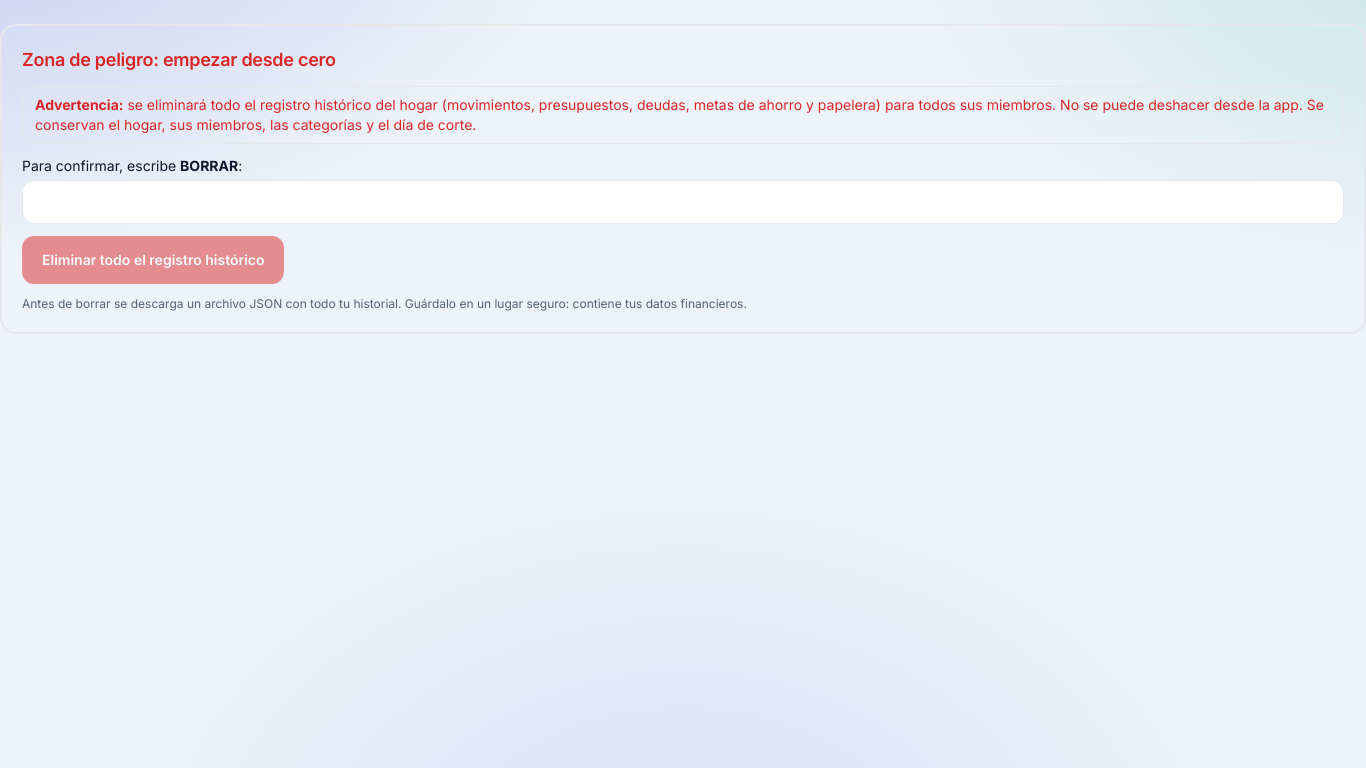
DangerZone › respalda primero y luego borra
Expected: the button "Eliminar todo el registro histórico" is disabled, [22,236,284,284]
Type "borrar" into the field labelled "Para confirmar, escribe BORRAR:" at (683, 202), box [22,180,1344,224]
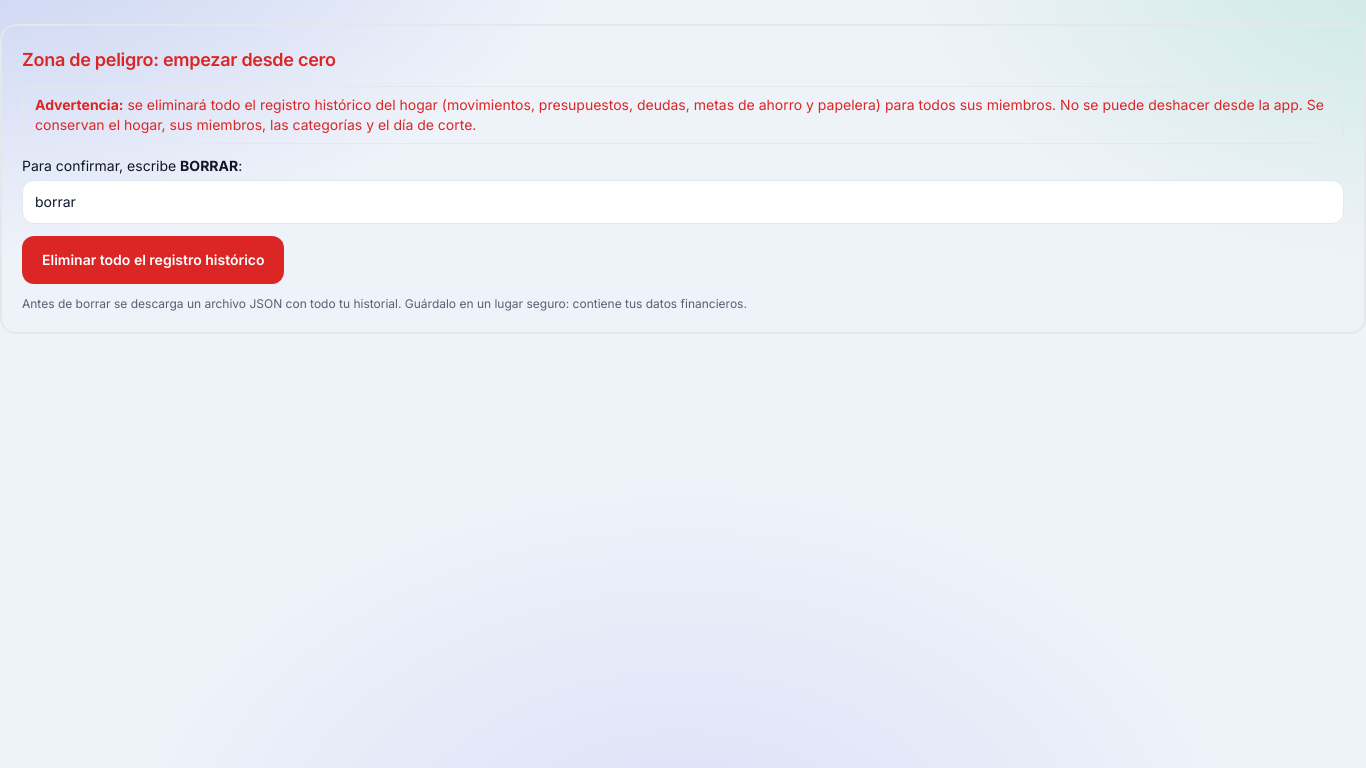
Result: the button "Eliminar todo el registro histórico" is enabled
Click the button "Eliminar todo el registro histórico" at (153, 260), box [22,236,284,284]
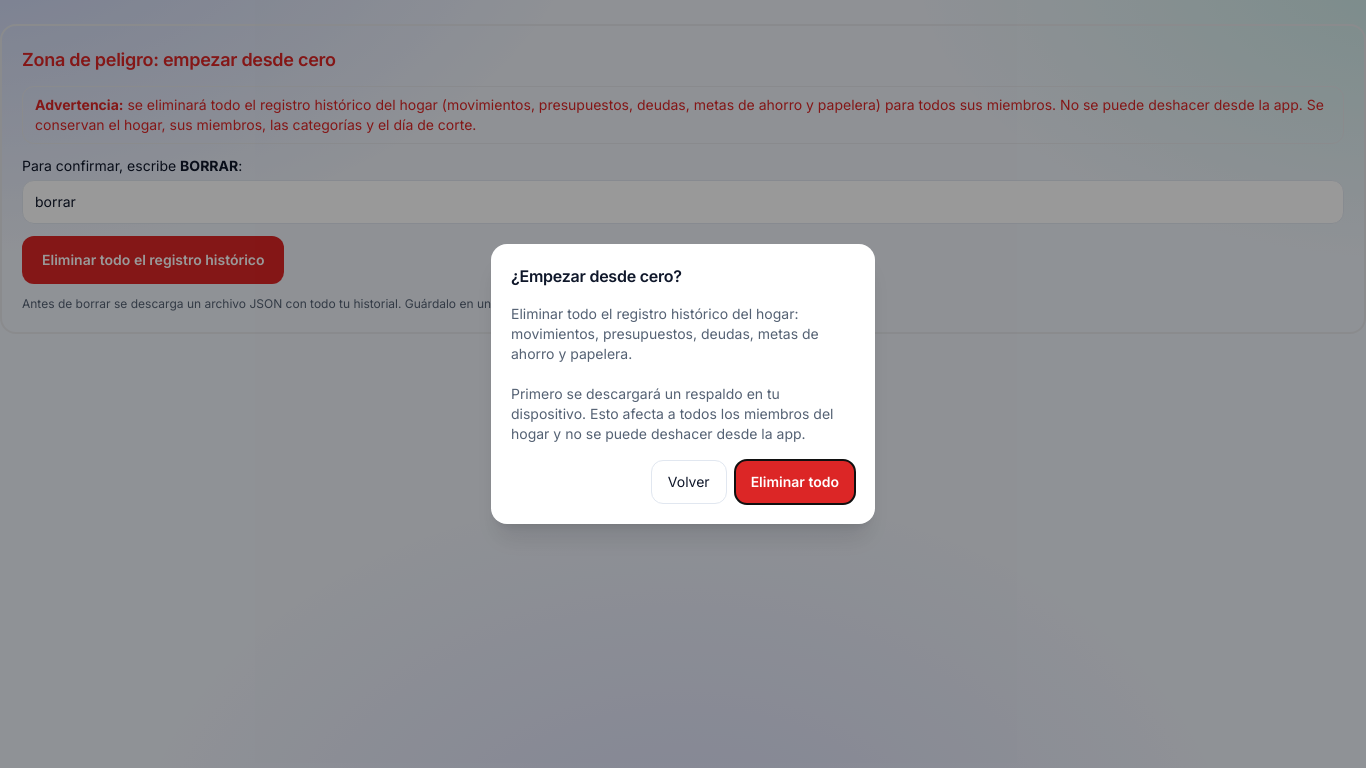
Result: the dialog is shown at [491,244,875,524]
Click the button "Eliminar todo" at (795, 482), box [735,460,855,504]
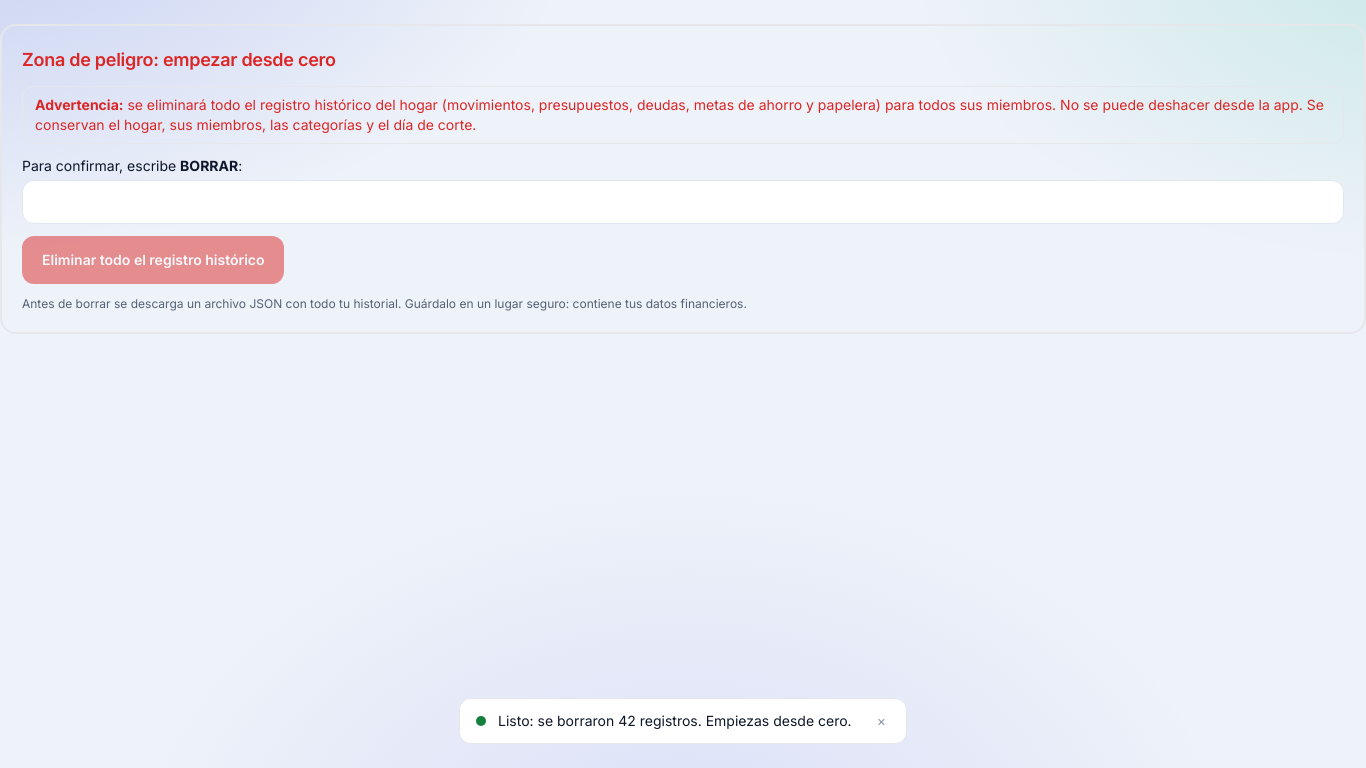
Result: the text "Listo: se borraron 42 registros. Empiezas desde cero." is shown at [498,711,861,731]
